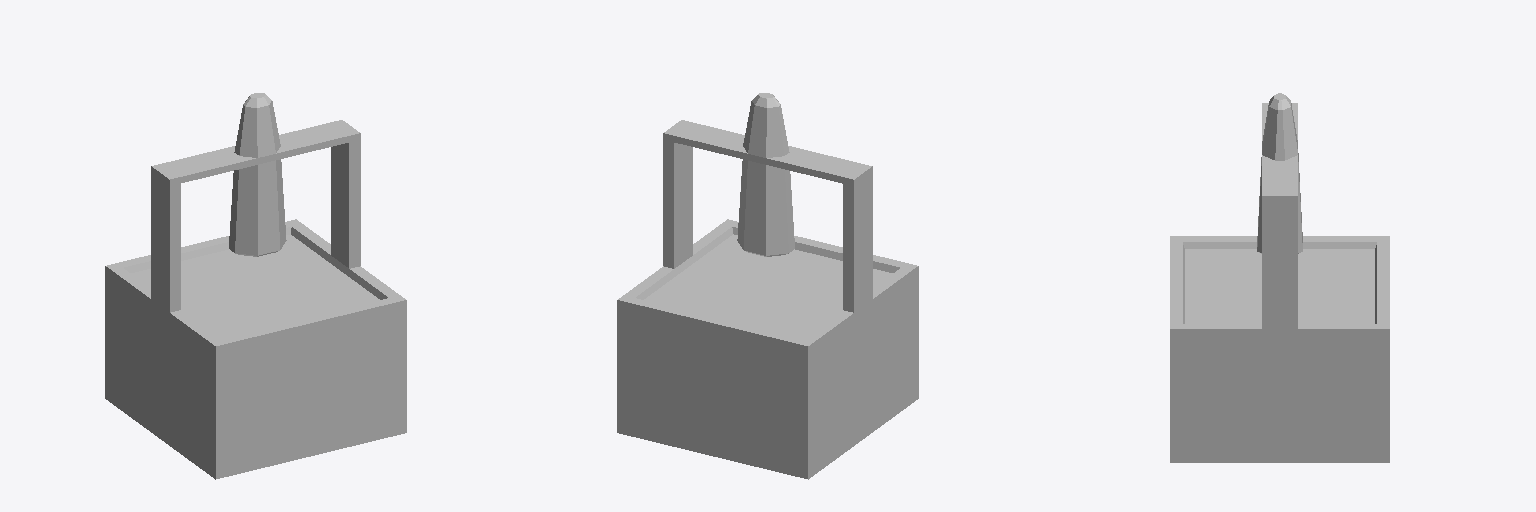
File: Grinder_Final.obj
3 views of the same model, side by side, from view 1: azimuth 30°, elevation 25°; view 2: azimuth 150°, elevation 25°; view 3: azimuth 270°, elevation 25° (orthographic).
Visible parts, largest first — view 1: Grinder; view 2: Grinder; view 3: Grinder.
Boxes of the visible parts, <box> form: Grinder: <box>105,93,406,479</box>; Grinder: <box>617,93,918,479</box>; Grinder: <box>1170,93,1389,462</box>.
Size of the model in its own units: 30 by 48.06 by 30.